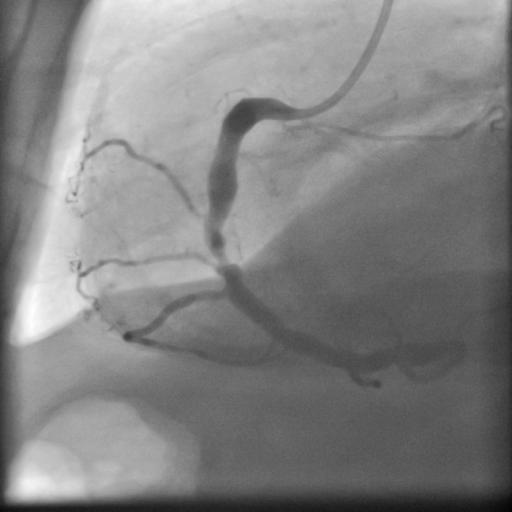Stenosis: (205, 227, 236, 275)
